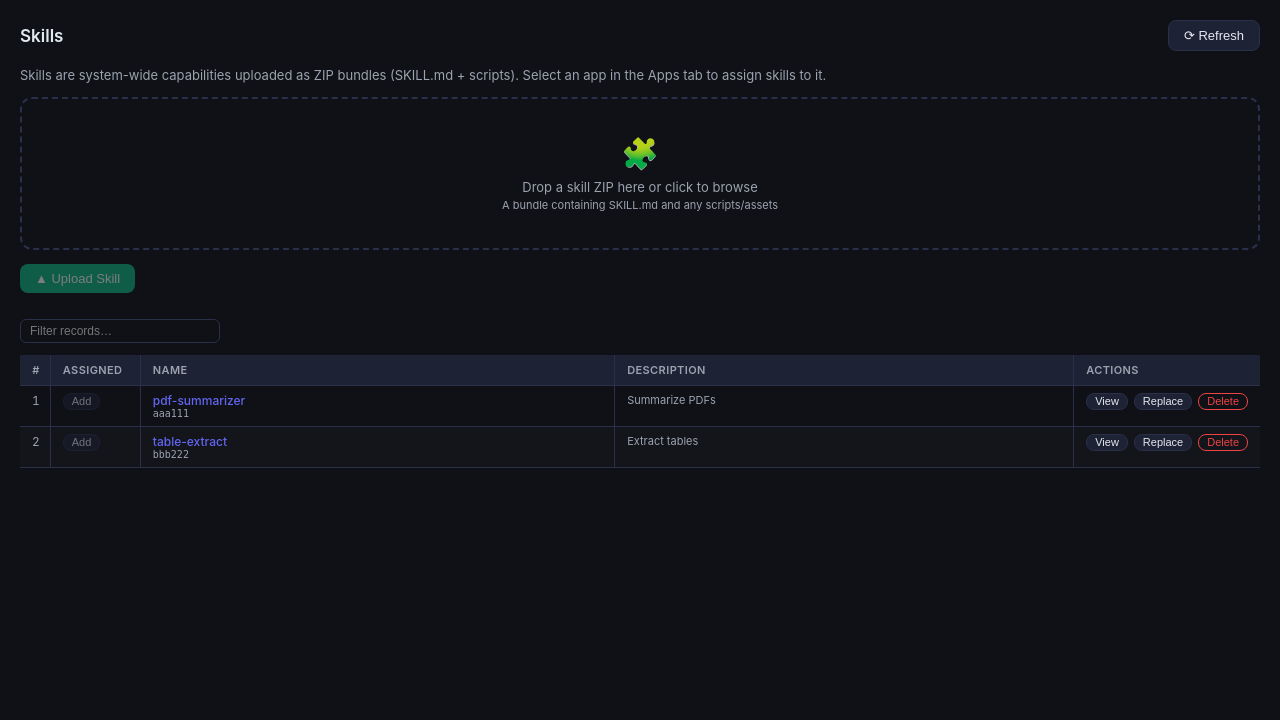
Test: detail modal › loads and shows a bundle file when clicked
Click the button "pdf-summarizer" at x=199, y=400, box [153,393,245,408]
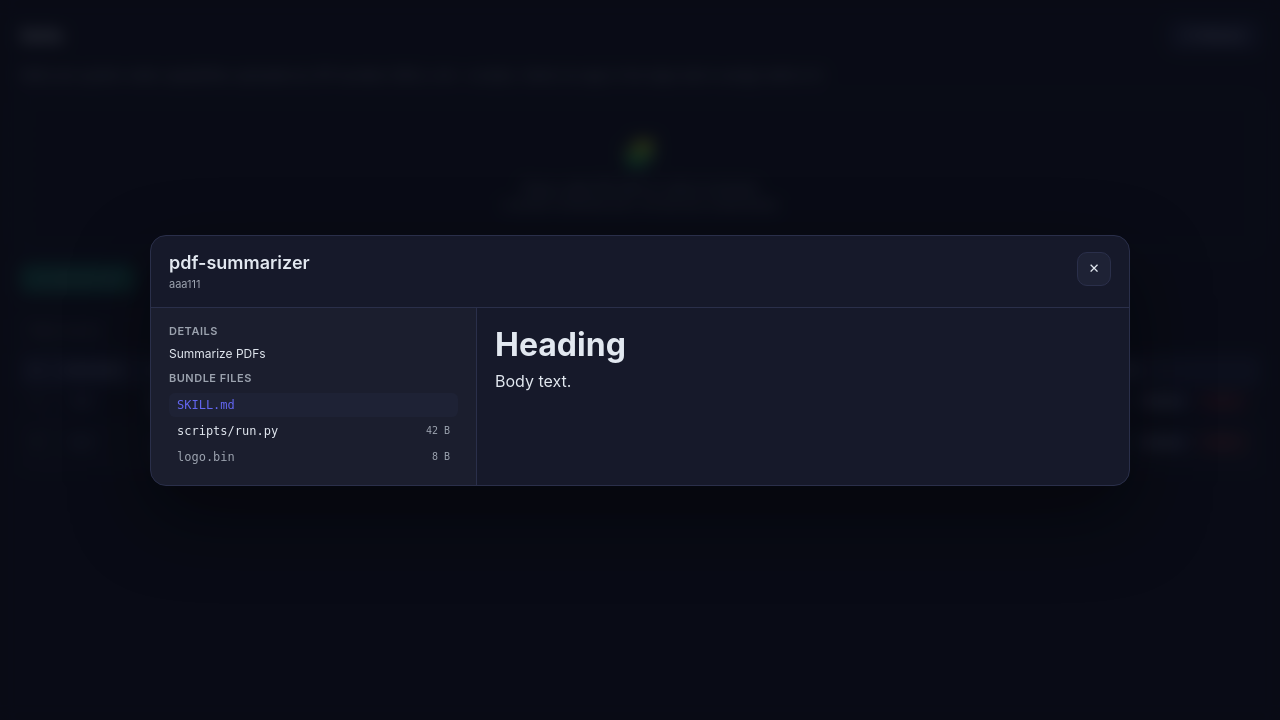
expect the text "scripts/run.py" is shown: met
Click the text "scripts/run.py" at x=228, y=430, box [177,424,278,438]
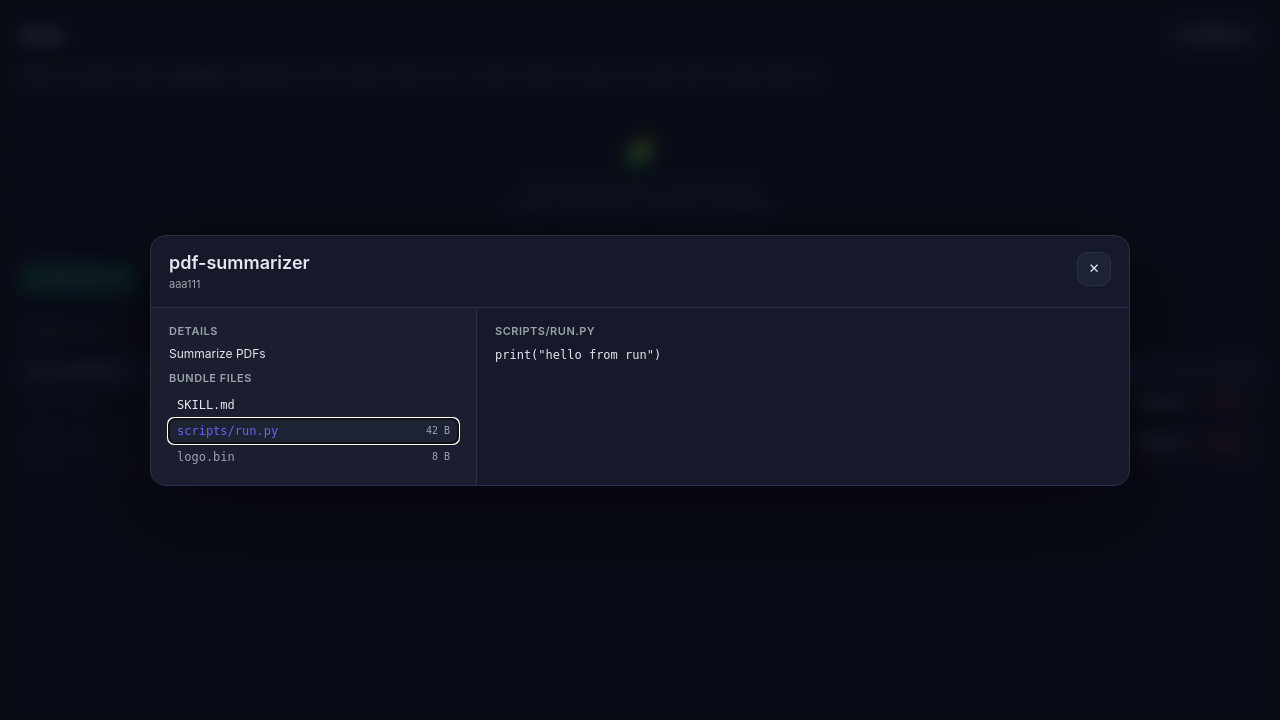
expect the text "print(\"hello from run\")" is shown: met, box [495,348,661,362]
